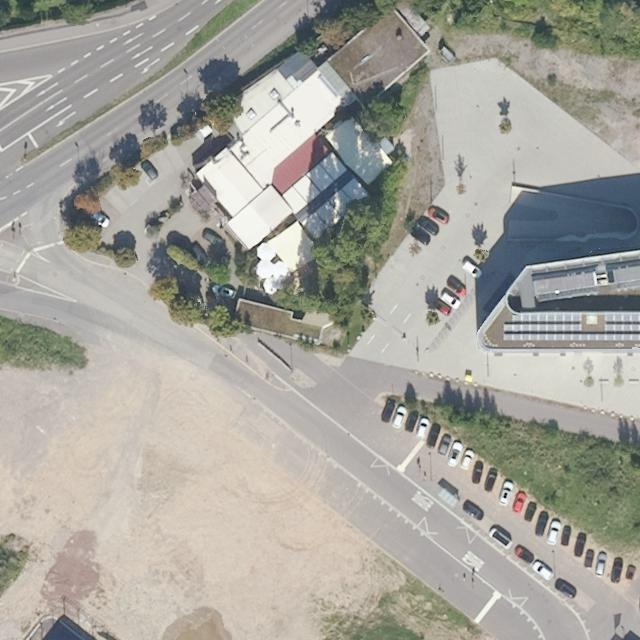PV: (502, 332, 639, 342), (502, 322, 584, 333), (509, 312, 584, 323), (603, 312, 640, 323), (603, 322, 639, 333)
